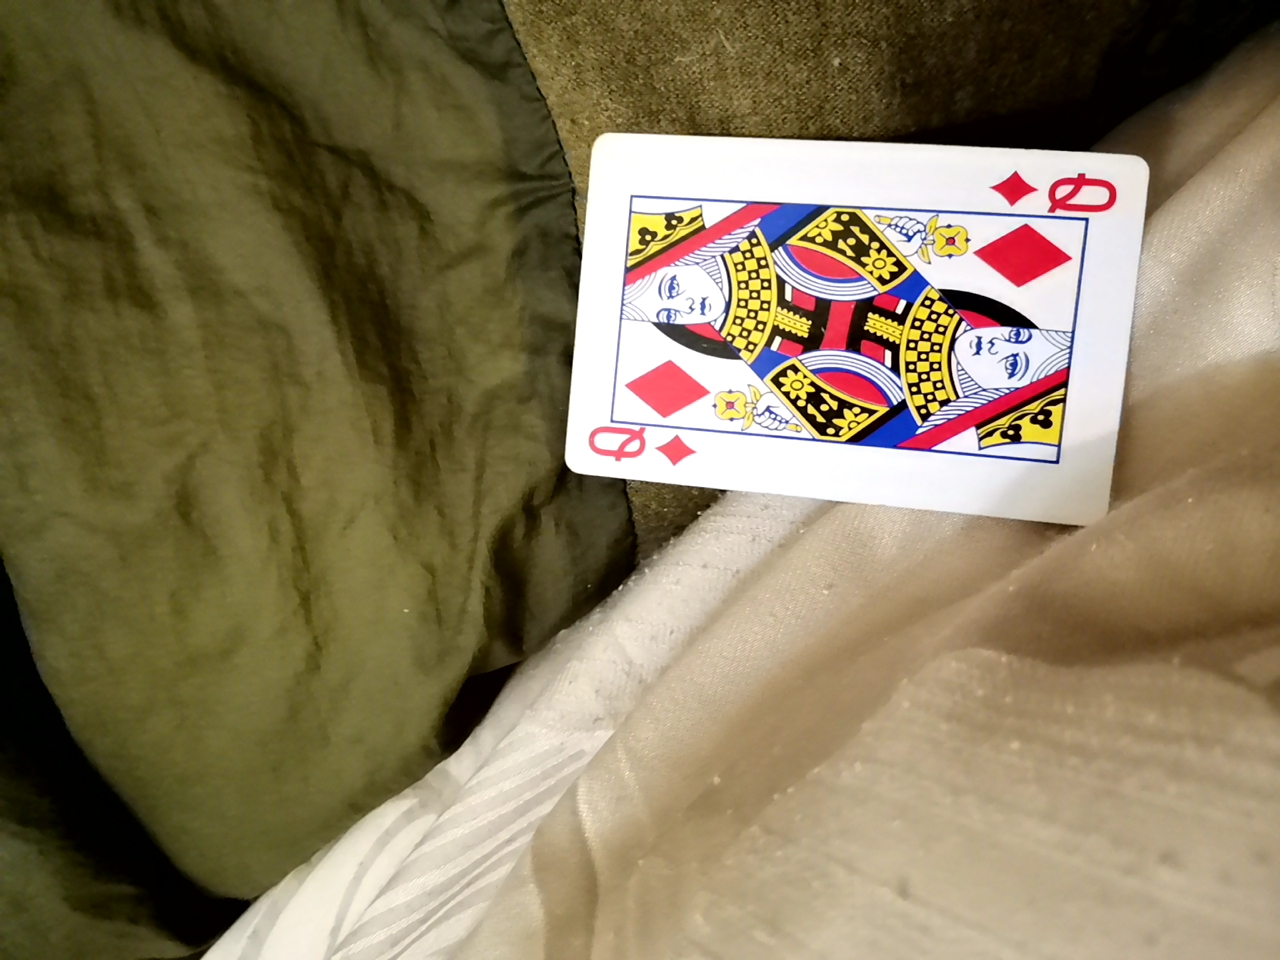fk q: (555, 126, 1134, 538)
